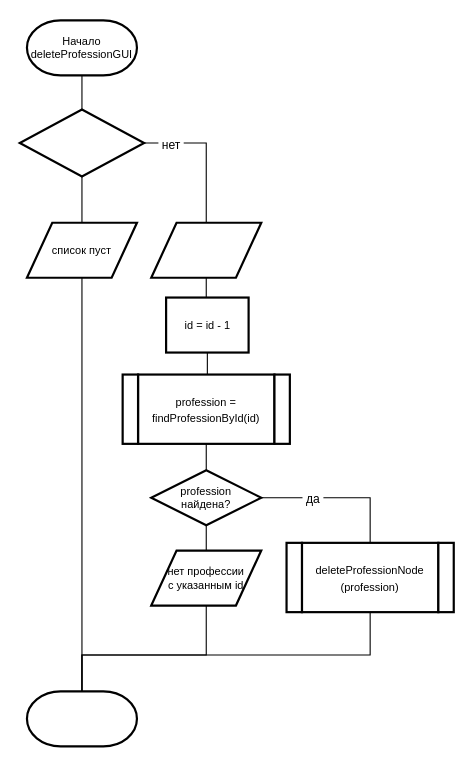
Image size: 474x766. Some labels were removed from this diagram. Each missing label, with the centre of its shape:
"id" belongs at (x=206, y=249).
"Конец deleteProfessionGUI" belongs at (x=81, y=718).
"список профессий пуст?" belongs at (x=81, y=142).
